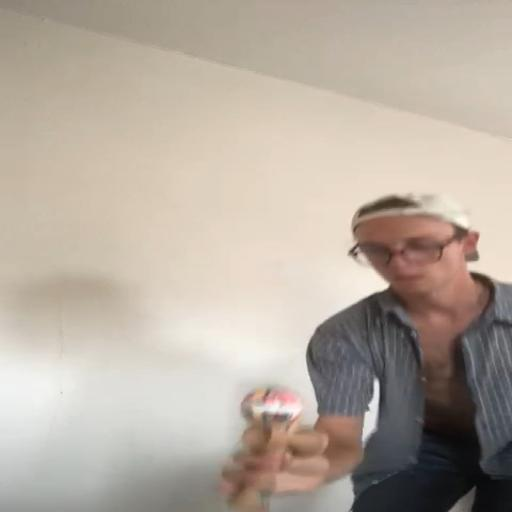kendama_ball: (241, 386, 303, 423)
